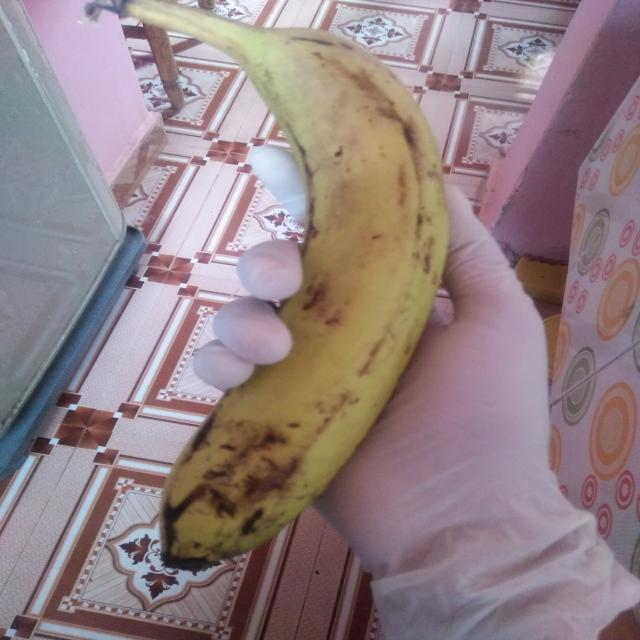Gloves: (175, 144, 640, 640)
